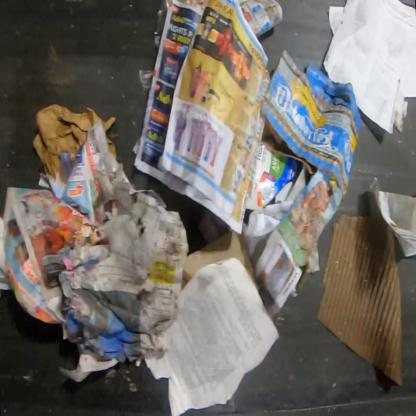cardboard: (258, 48, 361, 200), (316, 212, 402, 387), (182, 227, 259, 288), (244, 144, 305, 209)
soft_plastic: (153, 10, 167, 54), (139, 70, 154, 92)
